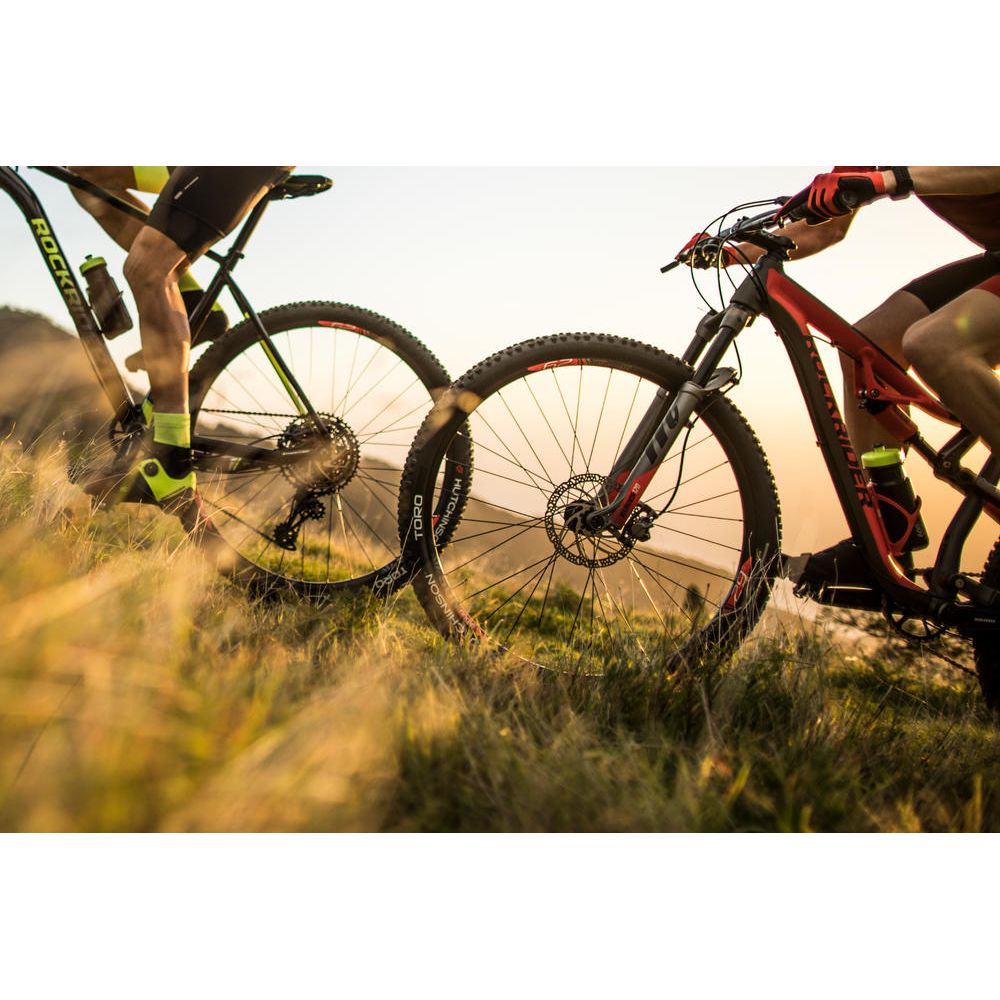MountainBike: (396, 156, 1000, 693), (0, 158, 479, 641)
